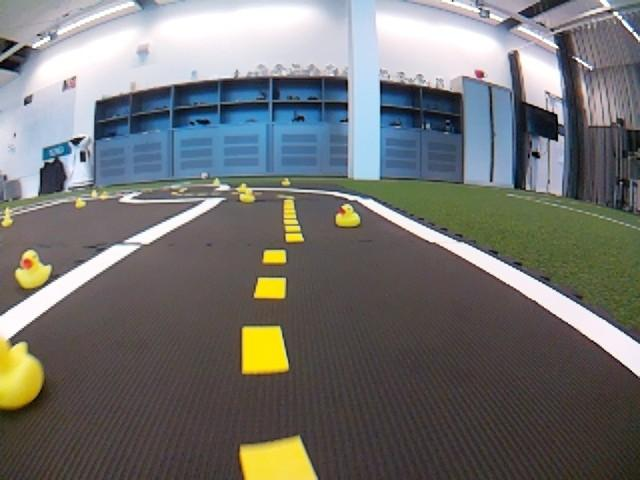Duckies: (0, 339, 43, 411), (14, 249, 51, 289), (335, 204, 360, 227), (239, 190, 256, 202), (74, 196, 86, 209), (2, 214, 13, 226), (236, 184, 249, 191), (281, 178, 291, 185), (99, 193, 109, 200), (4, 208, 12, 215), (91, 190, 98, 198), (213, 180, 221, 184)
